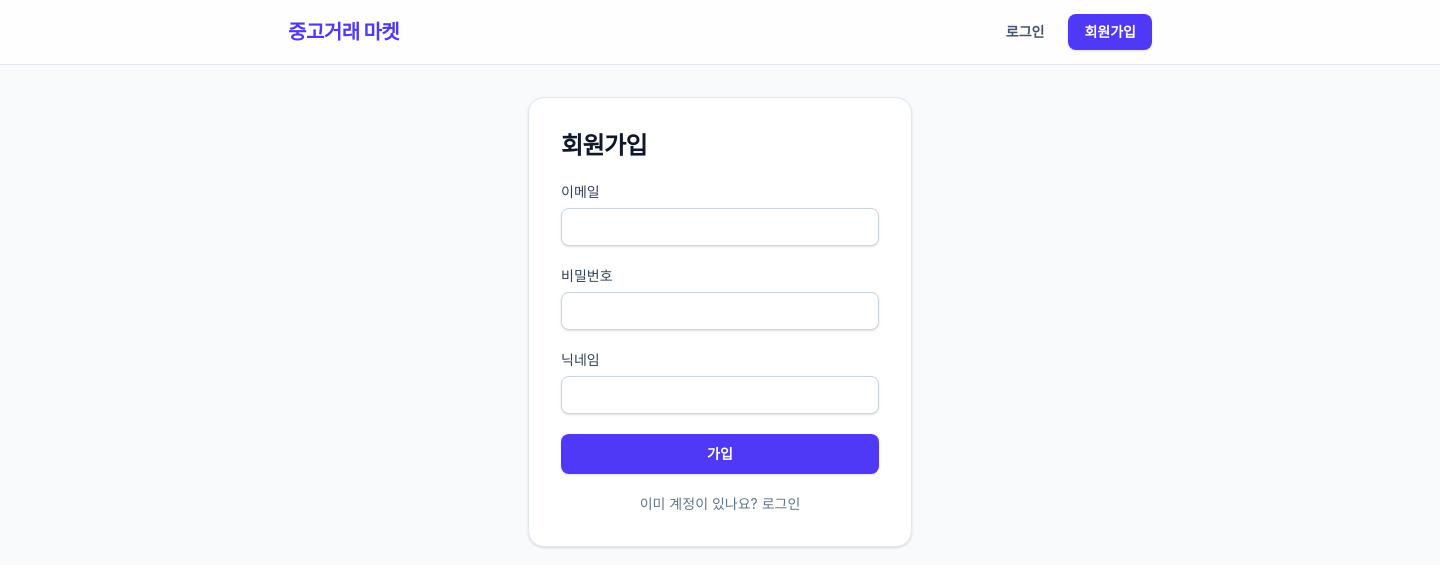
Test case: 가입 성공 시 로그인 페이지로 이동한다
The image size is (1440, 565).
Step 1. Type "a@b.com" into the field labelled "이메일" → (720, 227), box [561,208,879,246]
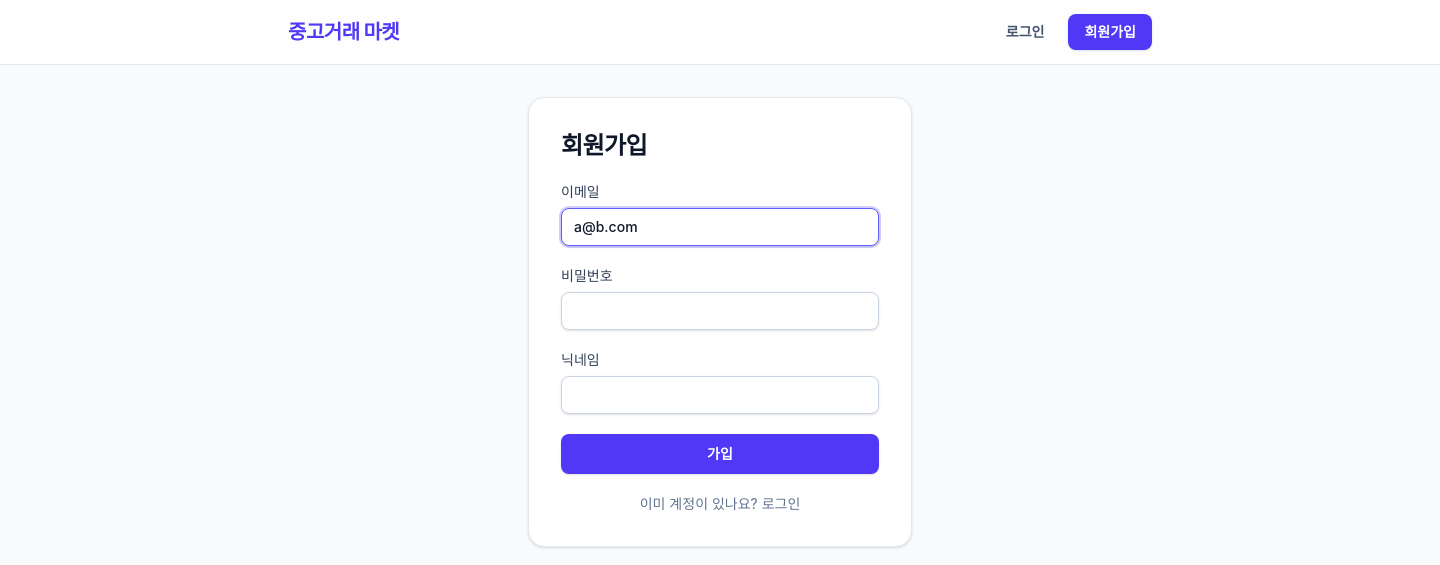
Step 2. Type "password123" into the password field labelled "비밀번호" → (720, 311), box [561,292,879,330]
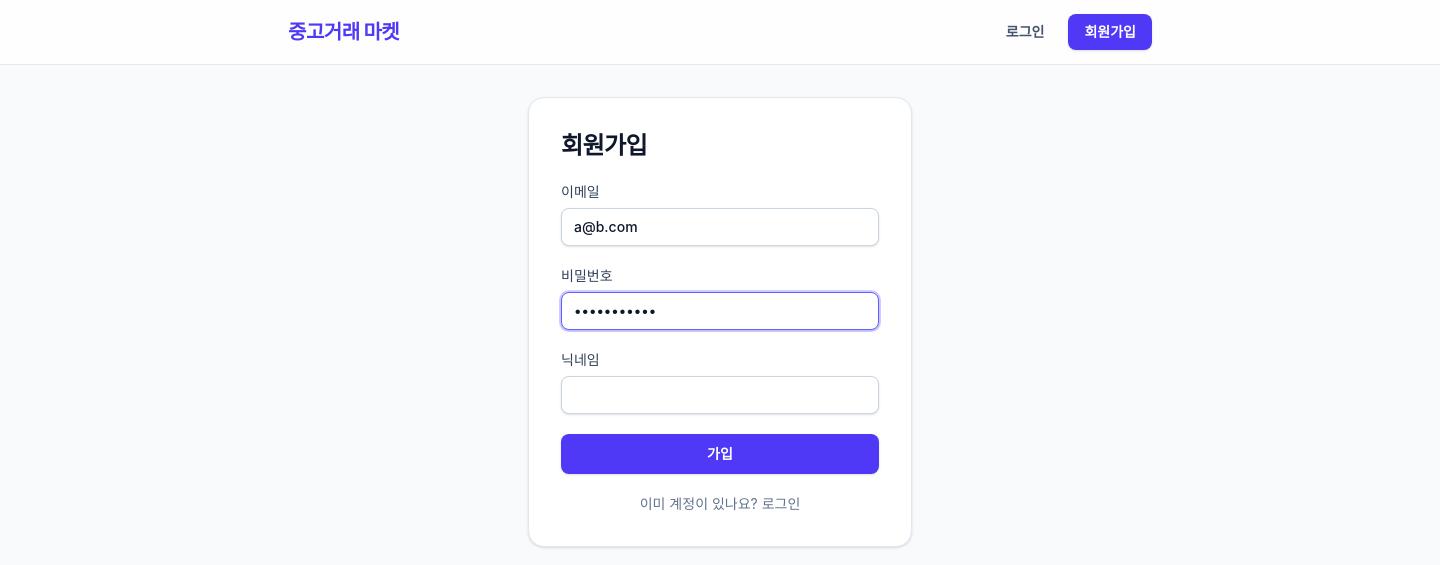
Step 3. Type "닉" into the field labelled "닉네임" → (720, 395), box [561,376,879,414]
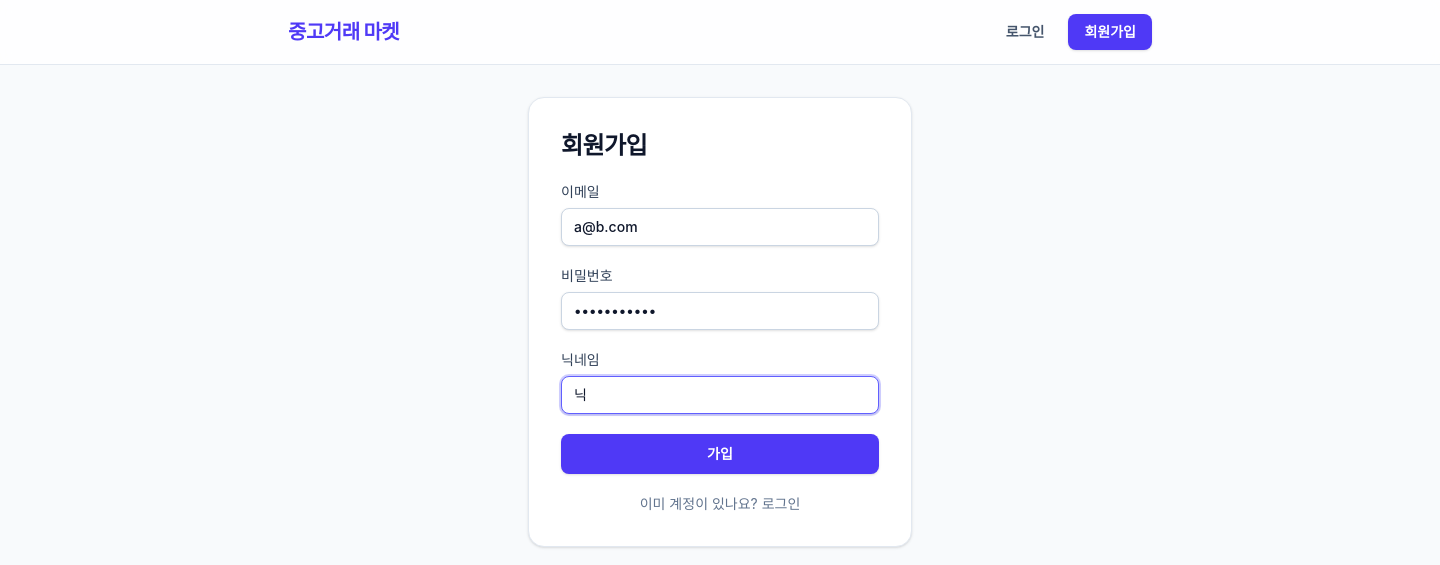
Step 4. Click the button "가입" → click(720, 454), box [561,434,879,474]
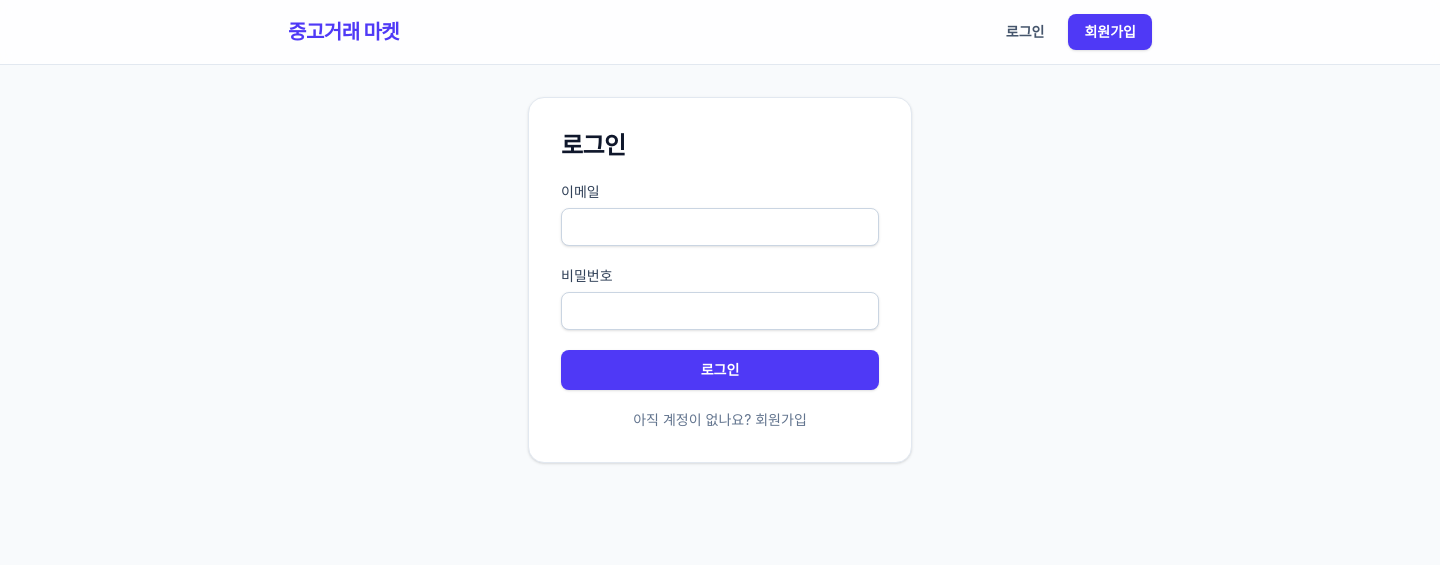
Result: the button "로그인" is shown at [561,350,879,390]
